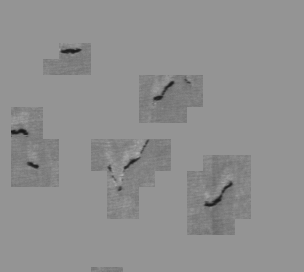oxl: (35, 10, 269, 262)
